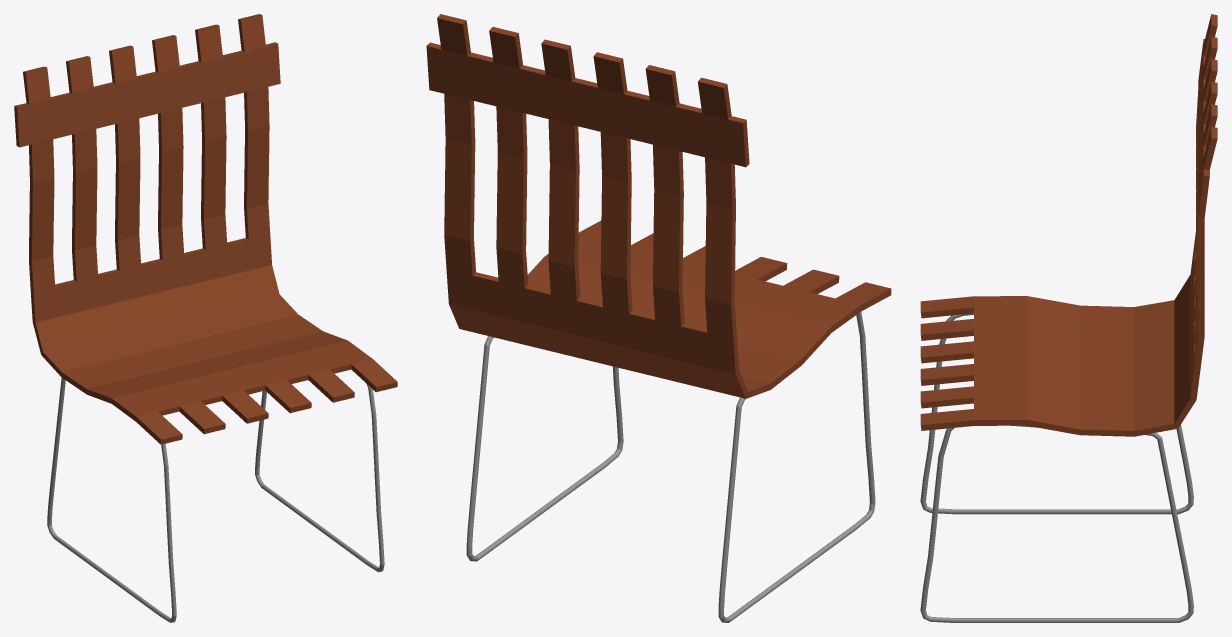
Rendered from InStoreChair.fbx.
3 views of the same model, side by side, from view 1: azimuth 30°, elevation 25°; view 2: azimuth 150°, elevation 25°; view 3: azimuth 270°, elevation 25° (orthographic). The views are drawn at different scales.
Parts seen in each view (by area): view 1: Chair; view 2: Chair; view 3: Chair.
Boxes of the visible parts, box(x1,y1,x2,y2) form: Chair: box(14, 14, 397, 622); Chair: box(426, 14, 891, 622); Chair: box(920, 14, 1217, 622).
Size of the model in its own units: 202 by 340 by 186.
